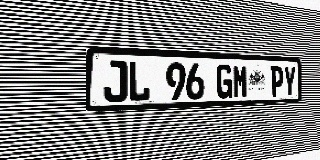6: (186, 63, 204, 100)
9: (166, 62, 185, 101)
G: (216, 64, 232, 99)
J: (103, 60, 127, 103)
L: (128, 61, 150, 102)
M: (233, 64, 248, 98)
P: (270, 66, 283, 97)
Y: (284, 66, 296, 96)
